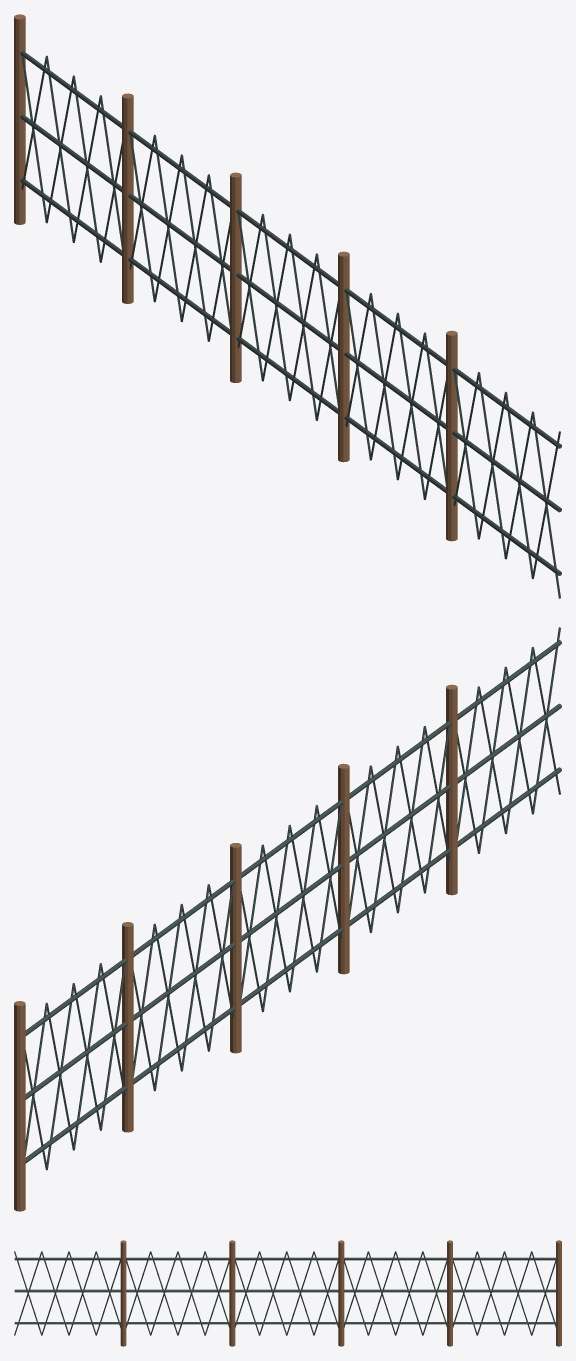
The model's file is fence.glb.
The picture shows the model from 3 angles, top to bottom: view 1: azimuth 30°, elevation 25°; view 2: azimuth 150°, elevation 25°; view 3: azimuth 270°, elevation 25°; orthographic projection. The views are drawn at different scales.
Parts seen in each view (by area): view 1: fence; view 2: fence; view 3: fence.
Part boxes in pixels (box(x1,y1,x2,y2)): fence: box(14, 14, 561, 598); fence: box(14, 627, 561, 1211); fence: box(14, 1240, 561, 1346).
Size of the model in its own units: 0.1046 by 2.1 by 10.07.
